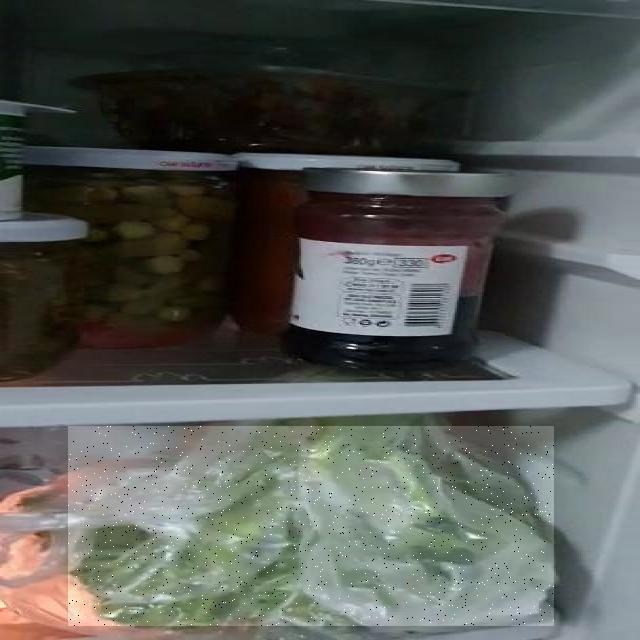Lettuce: (68, 426, 554, 626)
